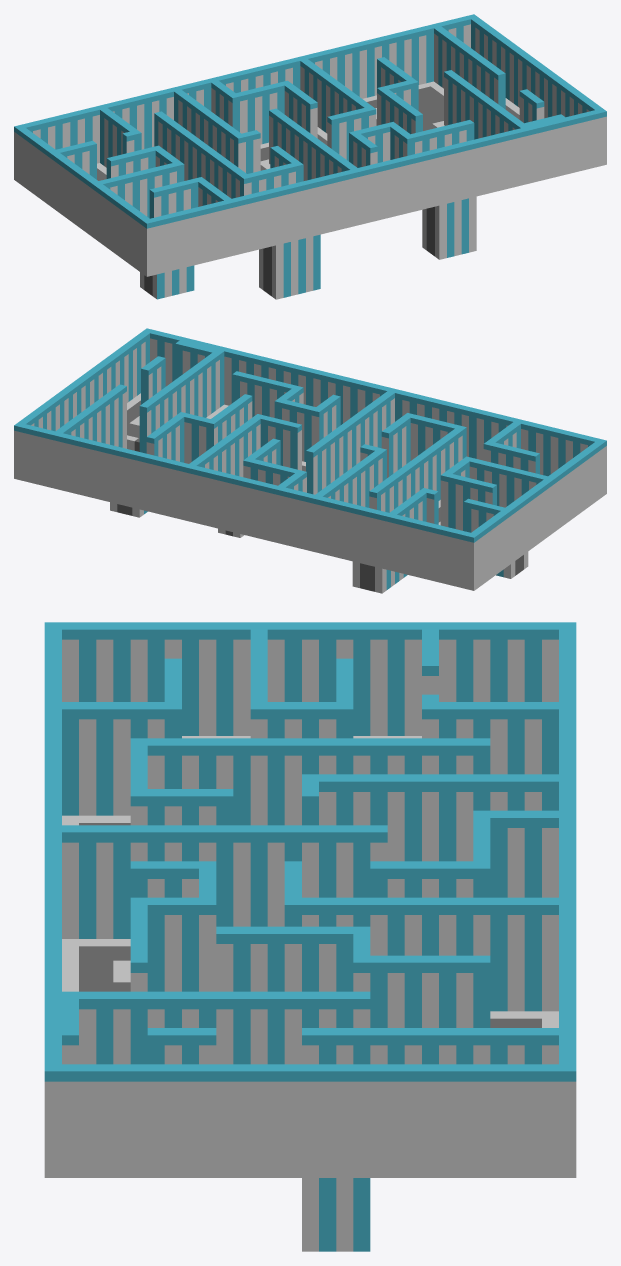
The model's file is moonlevel3.fbx.
3 renders of one model, top to bottom at view 1: azimuth 30°, elevation 25°; view 2: azimuth 150°, elevation 25°; view 3: azimuth 270°, elevation 25°, orthographic. The views are drawn at different scales.
Parts seen in each view (by area): view 1: Plane; view 2: Plane; view 3: Plane.
Part boxes in pixels (x1,y1,x2,y2): Plane: (14,14,606,299); Plane: (14,328,606,593); Plane: (44,622,576,1251).
Bounding box in the file's own units: 3200 × 743 × 1600.
